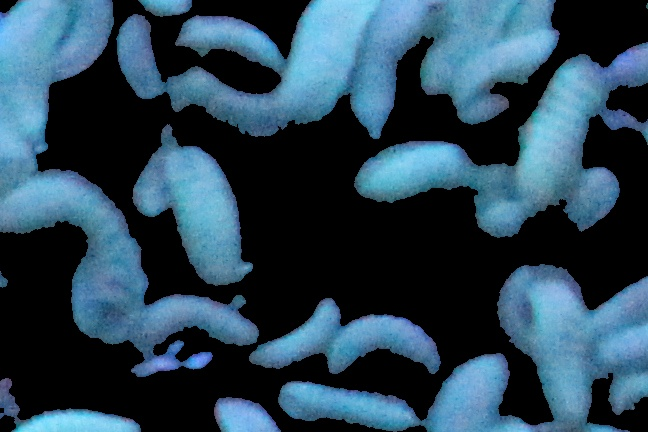larvae: (1, 172, 146, 338), (154, 145, 254, 283), (515, 65, 607, 195), (450, 28, 563, 114), (351, 2, 425, 132), (286, 1, 356, 127), (281, 378, 421, 432), (533, 281, 586, 418), (351, 141, 475, 199), (426, 347, 506, 432), (324, 317, 443, 372), (251, 300, 335, 368), (486, 260, 543, 356), (179, 21, 279, 75), (143, 298, 257, 344), (111, 17, 169, 105), (55, 2, 114, 79), (585, 269, 648, 328), (16, 404, 144, 432), (596, 323, 648, 379)
